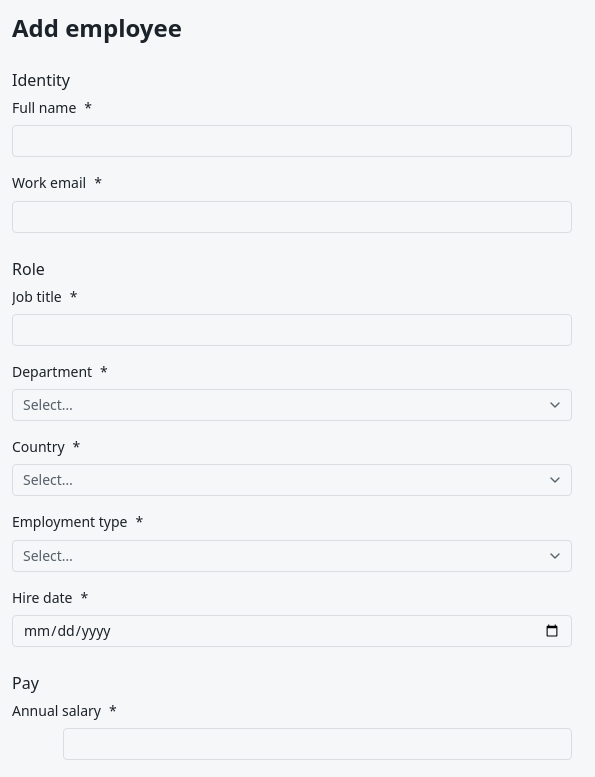
AddEmployeePage › shows the currency of the chosen country next to the salary, as read-only text
What coordinates should you click on to do the following:
click the dropdown named "country"
I would click on:
 (48, 480)
Its box is [12,464,572,496].
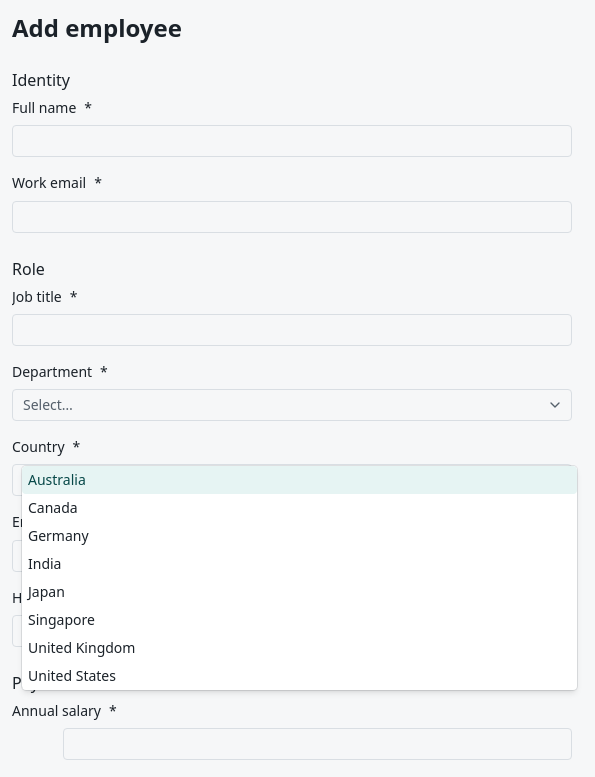
What coordinates should you click on to do the following:
click the option "Japan"
I would click on:
 (46, 592)
Its box is [28,582,65,601].
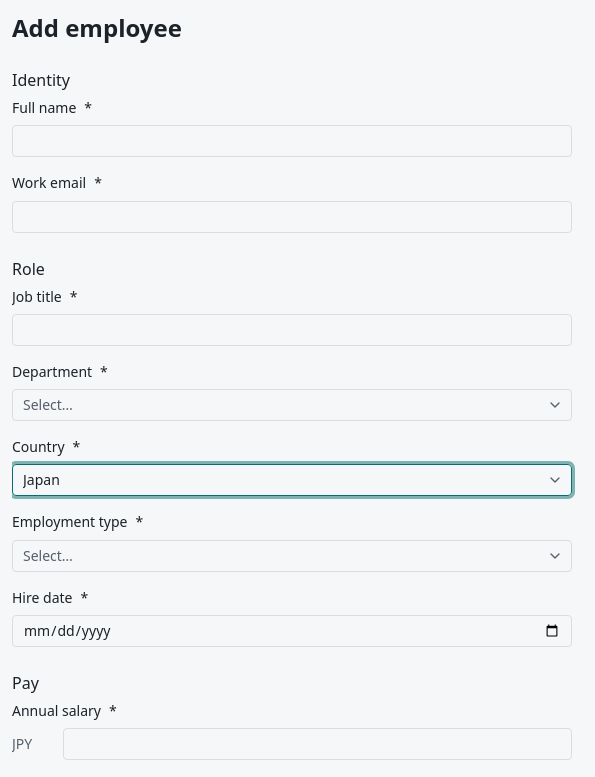
Expected: the text "JPY" is shown, [12,734,32,753]
